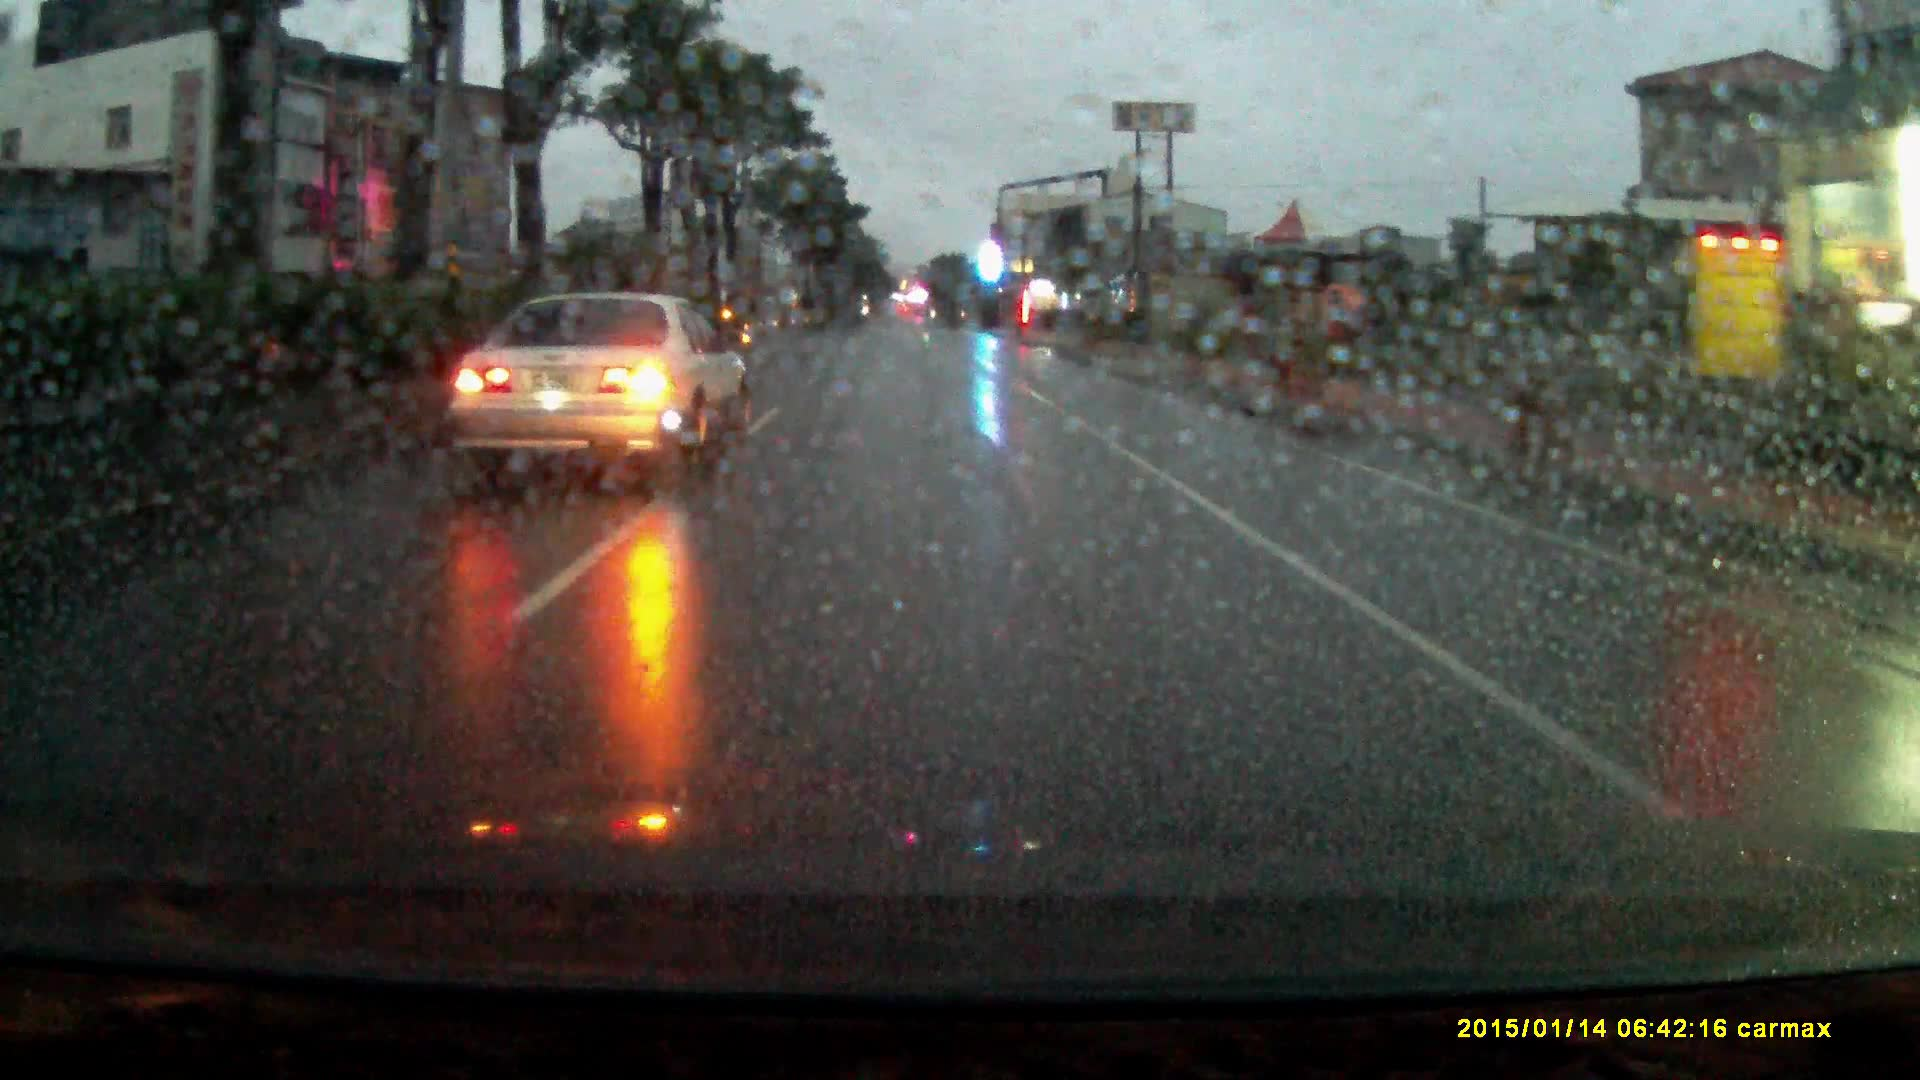pedestrian: (1305, 277, 1367, 394)
vehicle: (455, 288, 763, 491)
